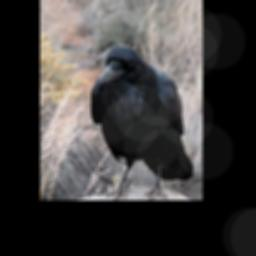Crow: (88, 44, 195, 200)
